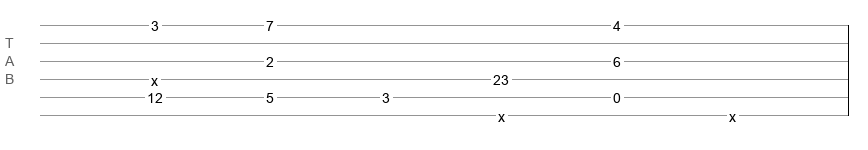0: (613, 90, 621, 100)
12: (147, 90, 163, 100)
2: (266, 54, 274, 64)
23: (493, 72, 509, 82)
3: (151, 18, 159, 28), (382, 90, 390, 100)
4: (613, 18, 621, 28)
5: (266, 90, 274, 100)
6: (613, 54, 621, 64)
7: (266, 18, 274, 28)
x: (151, 73, 158, 81), (498, 109, 505, 117), (729, 109, 736, 117)
